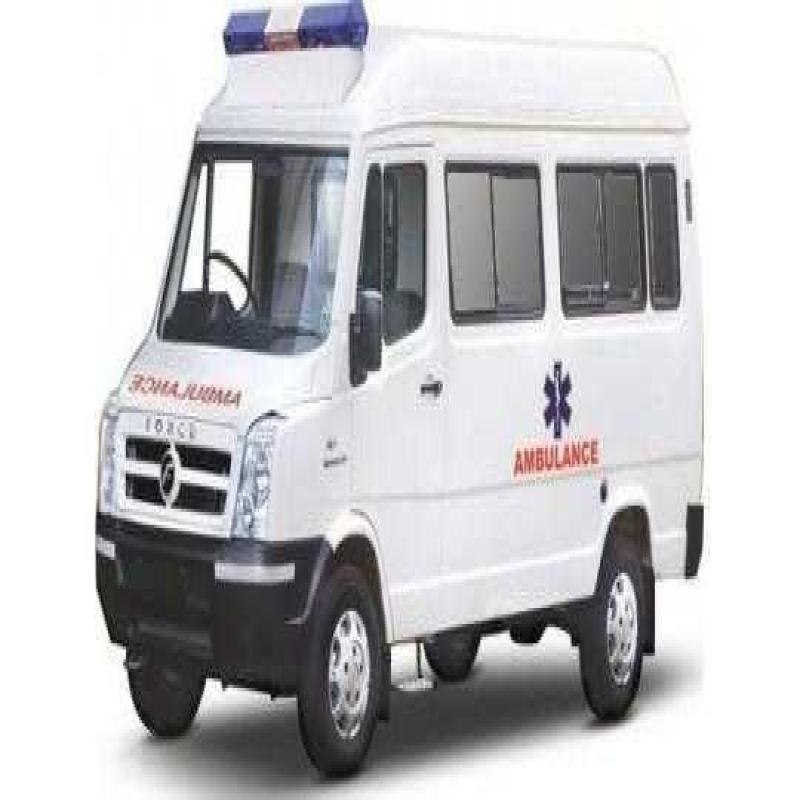AmbulanceSiren: (211, 2, 380, 63)
ambulance: (83, 54, 717, 736)
